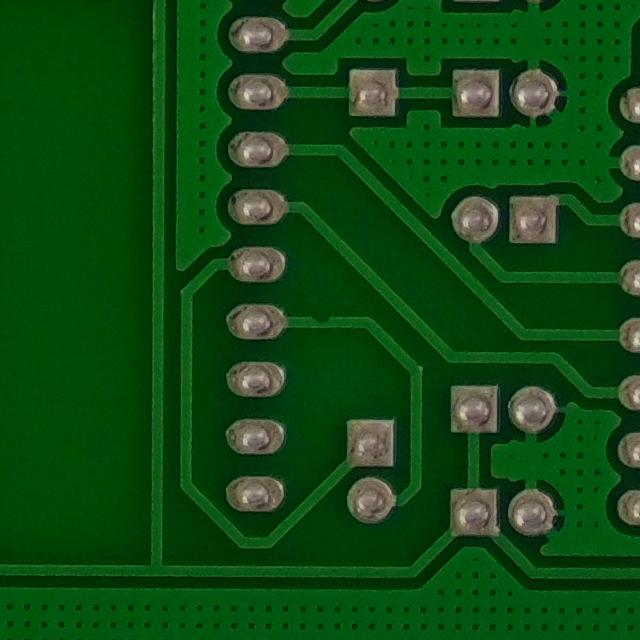mouse_bite: (304, 302, 337, 338)
